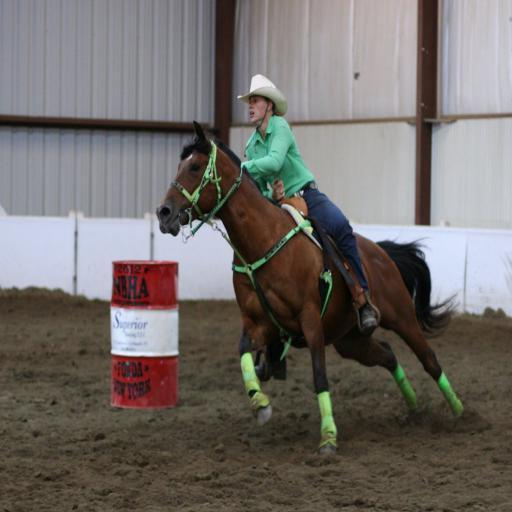horse: (154, 120, 460, 456)
